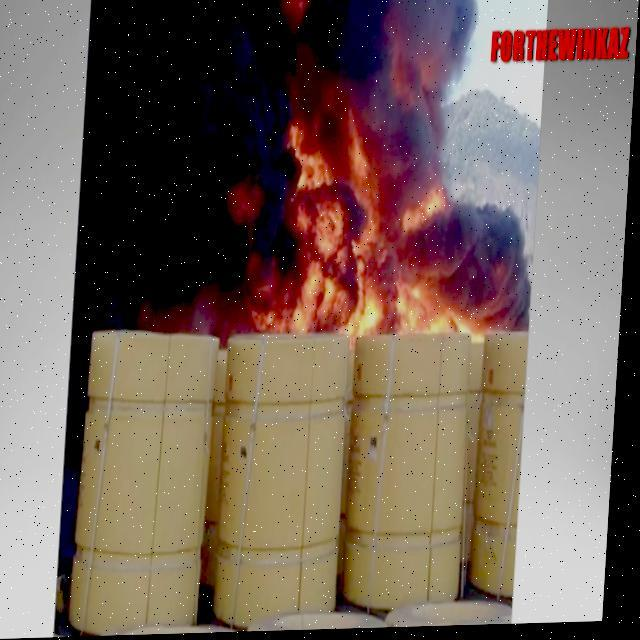Fire: (252, 118, 508, 347)
